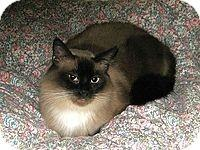siamese: (47, 32, 121, 113)
